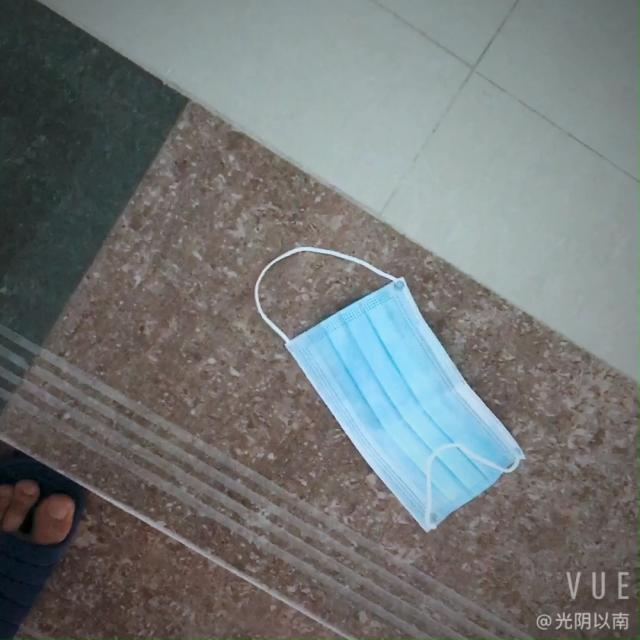face mask: (265, 260, 518, 532)
